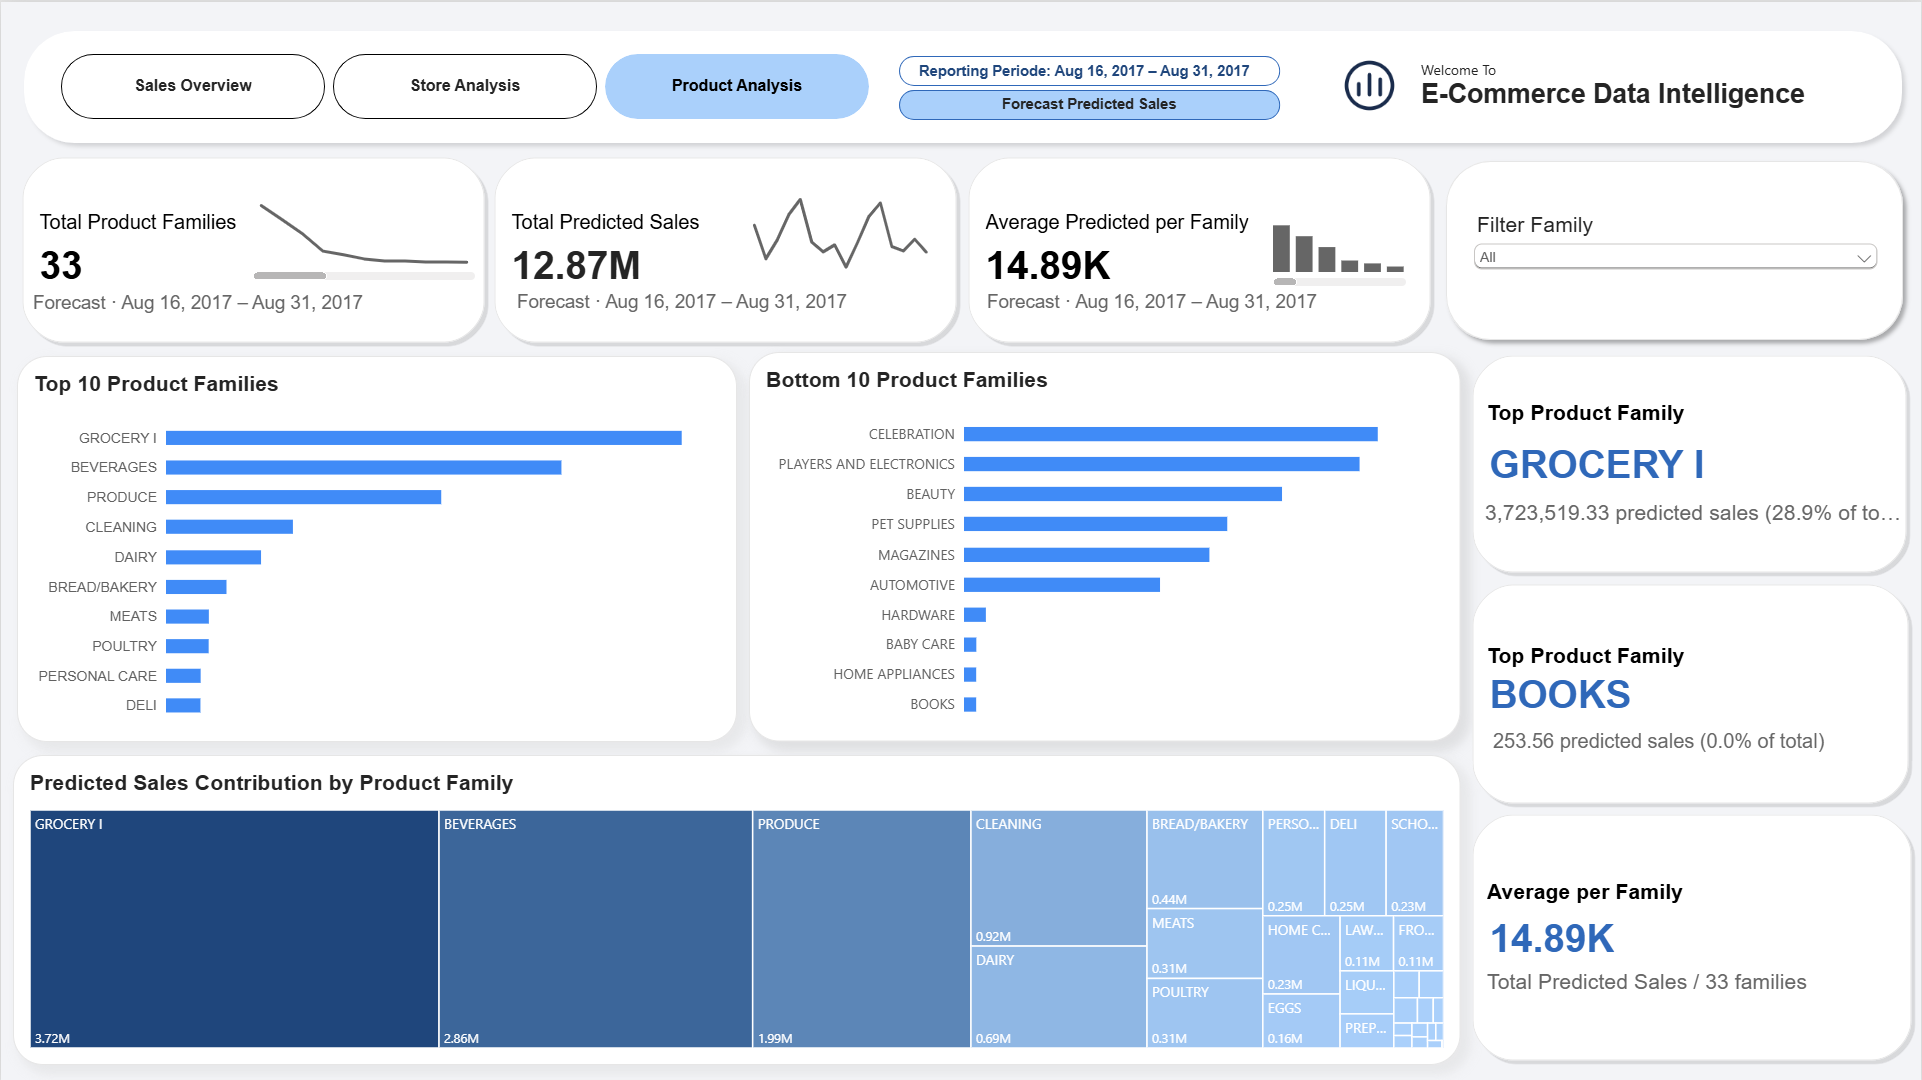

This screenshot's page, from the dashboard's own definition file:
{"tool":"powerbi","page":{"name":"Product Analysis","canvas":[1920,1080],"ordinal":2},"visuals":[{"type":"shape","box":[14,20,1896,130],"z":0},{"type":"pageNavigator","box":[60,52.2,810,65.6],"z":1000},{"type":"textbox","box":[1420,58.3,403.3,53.3],"z":4000},{"type":"image","box":[1326.7,56.7,85,55],"z":5000},{"type":"cardVisual","fields":{"Data":["Sum(public mart_daily_sales.total_predicted_sales)1"]},"box":[488.3,150,473.3,196.7],"z":6000},{"type":"cardVisual","fields":{"Data":["Count(public mart_sales_by_family.family_name)"]},"box":[16.7,150,473.3,196.7],"z":8000},{"type":"cardVisual","fields":{"Data":["Sum(public mart_sales_by_family.avg_predicted_sales)"]},"box":[962,150,473.3,196.7],"z":9000},{"type":"clusteredBarChart","title":"Top 10 Product Families","fields":{"Category":["public mart_sales_by_family.family_name"],"Y":["Sum(public mart_sales_by_family.total_predicted_sales)"]},"box":[16.7,353.3,720,385],"z":10000},{"type":"clusteredBarChart","title":"Bottom 10 Product Families","fields":{"Category":["public mart_sales_by_family.family_name"],"Y":["Sum(public mart_sales_by_family.total_predicted_sales)"]},"box":[748.3,350,711.7,388.3],"z":11000},{"type":"treemap","title":"Predicted Sales Contribution by Product Family","fields":{"Group":["public mart_sales_by_family.family_name"],"Values":["Sum(public mart_sales_by_family.total_predicted_sales)"]},"box":[12.5,752.5,1447.5,310],"z":12000},{"type":"cardVisual","fields":{"Data":["public mart_daily_sales.Top Family"]},"box":[1465,347.5,445,227.5],"z":13000},{"type":"cardVisual","fields":{"Data":["public mart_daily_sales.Bottom Family"]},"box":[1465,575,447.5,230],"z":14000},{"type":"cardVisual","fields":{"Data":["Sum(public mart_sales_by_family.avg_predicted_sales)"]},"box":[1465,805,450,257.5],"z":15000},{"type":"textbox","box":[1485,875,204.4,50],"z":16000},{"type":"textbox","box":[1485,640,233.3,50],"z":18000},{"type":"cardVisual","fields":{"Data":["public mart_daily_sales.Bottom Family Description"]},"box":[1475,703.3,441.7,68.3],"z":19000},{"type":"textbox","box":[1485,398.3,233.3,63.3],"z":20000},{"type":"cardVisual","fields":{"Data":["public mart_daily_sales.Top Family Description"]},"box":[1468.3,461.7,451.7,96.7],"z":21000},{"type":"cardVisual","fields":{"Data":["public mart_daily_sales.KPI Subtitle"]},"box":[500,265,401.7,66.7],"z":22000},{"type":"cardVisual","fields":{"Data":["public mart_daily_sales.KPI Subtitle"]},"box":[970,265.6,416,66],"z":24000},{"type":"cardVisual","fields":{"Data":["public mart_daily_sales.KPI Subtitle"]},"box":[16.7,266.7,366.7,68.3],"z":25000},{"type":"lineChart","fields":{"Category":["public mart_daily_sales.date.Variation.Date Hierarchy.Day"],"Y":["Sum(public mart_daily_sales.total_predicted_sales)"]},"box":[716.7,175,281,118],"z":26000},{"type":"clusteredColumnChart","fields":{"Category":["public mart_sales_by_family.family_name"],"Y":["Sum(public mart_sales_by_family.avg_predicted_sales)"]},"box":[1256,181,165,118],"z":28000},{"type":"lineChart","fields":{"Category":["public mart_sales_by_family.family_name"],"Y":["Sum(public mart_sales_by_family.total_predicted_sales)"]},"box":[236.7,175,254,118],"z":29000},{"type":"shape","box":[897.5,88.8,381.2,30],"z":30000},{"type":"textbox","box":[996.7,92.2,184.4,21.1],"z":31000},{"type":"shape","box":[897.8,54.4,381.2,30],"z":32000},{"type":"cardVisual","fields":{"Data":["public mart_daily_sales.REPORTING"]},"box":[902.1,52.9,371.1,33.3],"z":33000},{"type":"shape","box":[1435,150,475,197],"z":33001},{"type":"slicer","fields":{"Values":["public mart_sales_by_family.family_name"]},"box":[1468.3,210,413.3,83.3],"z":33002},{"type":"textbox","box":[1485,966.7,410,38.3],"z":33003}]}

Visuals, with their boxes in screenshot pixels (x1, y1, x2, y2), scaled from the page's 1920x1080 canvas onto the 1922x1080 screenshot:
shape: left=14, top=20, right=1912, bottom=150
pageNavigator: left=60, top=52, right=871, bottom=118
textbox: left=1421, top=58, right=1825, bottom=112
image: left=1328, top=57, right=1413, bottom=112
cardVisual - Sum(public mart_daily_sales.total_predicted_sales)1: left=489, top=150, right=963, bottom=347
cardVisual - Count(public mart_sales_by_family.family_name): left=17, top=150, right=491, bottom=347
cardVisual - Sum(public mart_sales_by_family.avg_predicted_sales): left=963, top=150, right=1437, bottom=347
"Top 10 Product Families" clusteredBarChart: left=17, top=353, right=737, bottom=738
"Bottom 10 Product Families" clusteredBarChart: left=749, top=350, right=1462, bottom=738
"Predicted Sales Contribution by Product Family" treemap: left=13, top=752, right=1462, bottom=1062
cardVisual - public mart_daily_sales.Top Family: left=1467, top=348, right=1912, bottom=575
cardVisual - public mart_daily_sales.Bottom Family: left=1467, top=575, right=1914, bottom=805
cardVisual - Sum(public mart_sales_by_family.avg_predicted_sales): left=1467, top=805, right=1917, bottom=1062
textbox: left=1487, top=875, right=1691, bottom=925
textbox: left=1487, top=640, right=1720, bottom=690
cardVisual - public mart_daily_sales.Bottom Family Description: left=1477, top=703, right=1919, bottom=772
textbox: left=1487, top=398, right=1720, bottom=462
cardVisual - public mart_daily_sales.Top Family Description: left=1470, top=462, right=1921, bottom=558
cardVisual - public mart_daily_sales.KPI Subtitle: left=501, top=265, right=903, bottom=332
cardVisual - public mart_daily_sales.KPI Subtitle: left=971, top=266, right=1387, bottom=332
cardVisual - public mart_daily_sales.KPI Subtitle: left=17, top=267, right=384, bottom=335
lineChart - public mart_daily_sales.date.Variation.Date Hierarchy.Day x Sum(public mart_daily_sales.total_predicted_sales): left=717, top=175, right=999, bottom=293
clusteredColumnChart - public mart_sales_by_family.family_name x Sum(public mart_sales_by_family.avg_predicted_sales): left=1257, top=181, right=1422, bottom=299
lineChart - public mart_sales_by_family.family_name x Sum(public mart_sales_by_family.total_predicted_sales): left=237, top=175, right=491, bottom=293
shape: left=898, top=89, right=1280, bottom=119
textbox: left=998, top=92, right=1182, bottom=113
shape: left=899, top=54, right=1280, bottom=84
cardVisual - public mart_daily_sales.REPORTING: left=903, top=53, right=1275, bottom=86
shape: left=1436, top=150, right=1912, bottom=347
slicer - public mart_sales_by_family.family_name: left=1470, top=210, right=1884, bottom=293
textbox: left=1487, top=967, right=1897, bottom=1005
